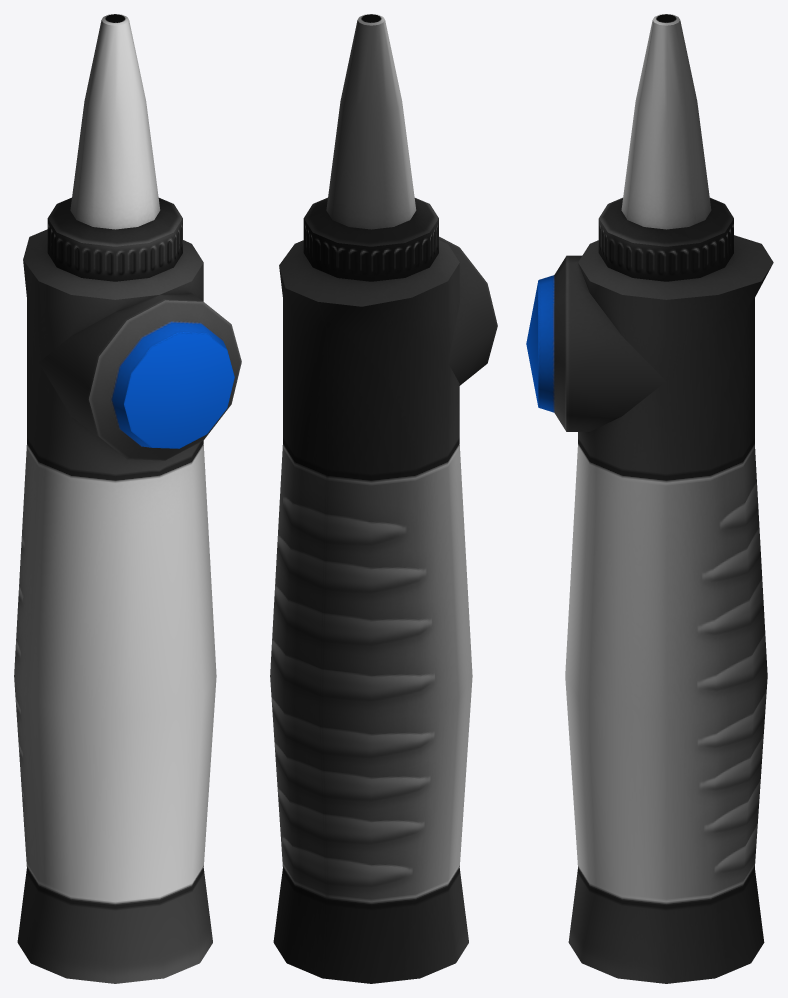
The model's file is leak_patch_tool.obj.
3 renders of one model, left to right at view 1: azimuth 30°, elevation 25°; view 2: azimuth 150°, elevation 25°; view 3: azimuth 270°, elevation 25°, orthographic.
Parts seen in each view (by area): view 1: leak_patch_tool, leak_patch_tool_button; view 2: leak_patch_tool; view 3: leak_patch_tool, leak_patch_tool_button.
Part boxes in pixels (box(x1,y1,x2,y2)): leak_patch_tool: box(14, 14, 241, 983); leak_patch_tool_button: box(111, 322, 234, 448); leak_patch_tool: box(270, 14, 497, 983); leak_patch_tool: box(554, 14, 773, 983); leak_patch_tool_button: box(526, 275, 554, 412).
Size of the model in its own units: 1.84 by 9.58 by 2.25.
